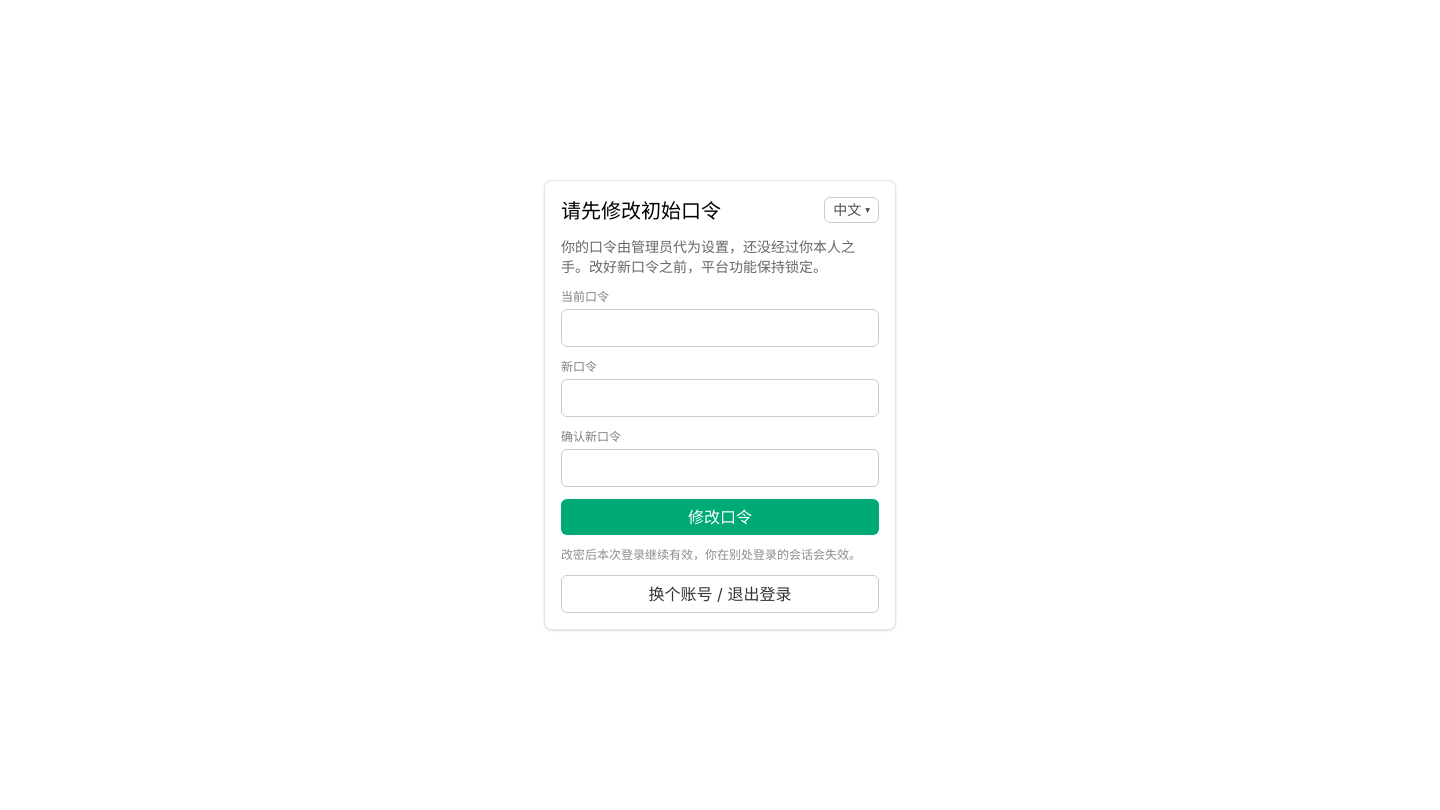
Test: #255 改密表单与成功链路 › 两次新口令不一致 ⇒ 本地拦住不发请求（服务端没有 confirm 字段，一致性只能前端判）
In the password field with id "currentPassword": (720, 328) [561, 309, 879, 347], type "admin-set"
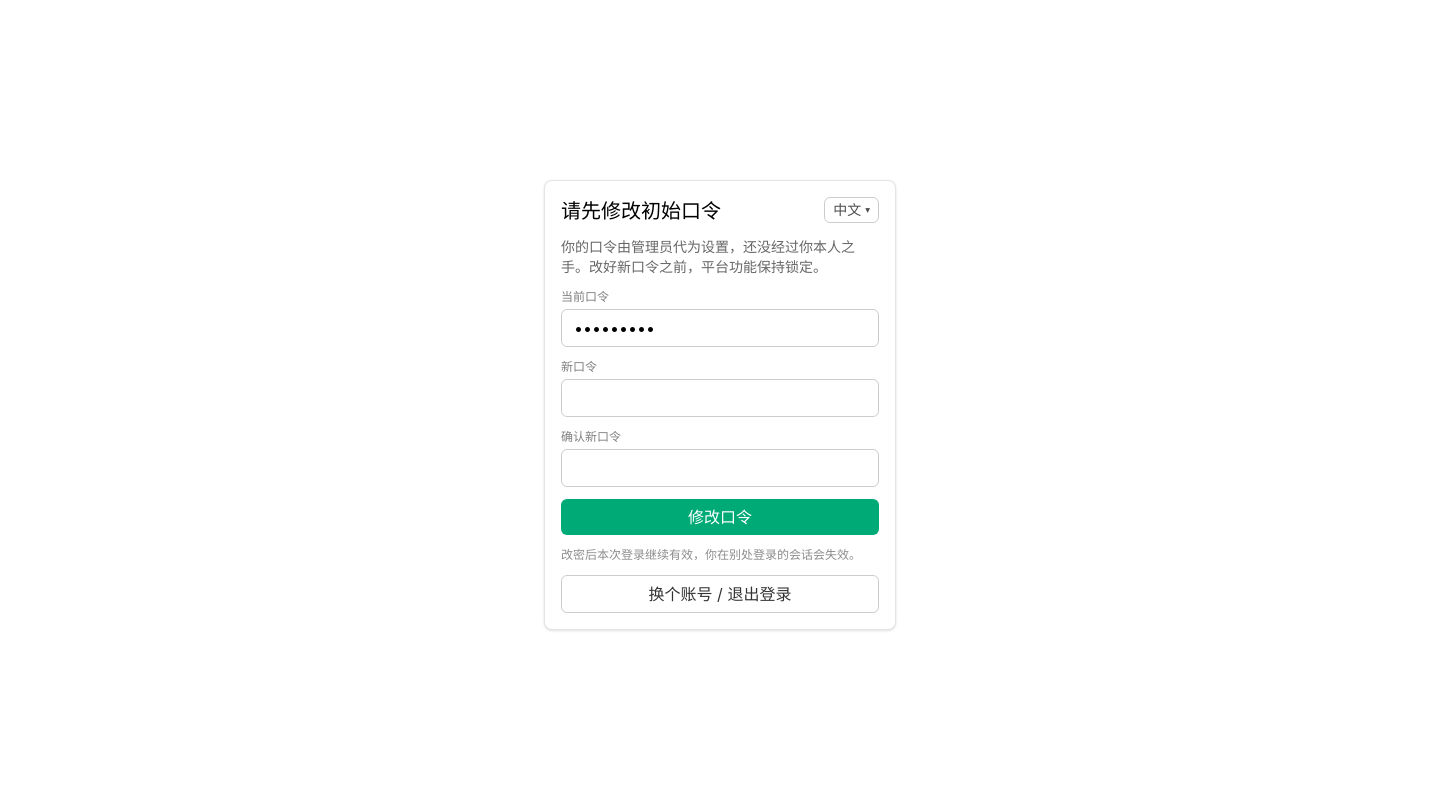
In the password field with id "newPassword": (720, 398) [561, 379, 879, 417], type "one"
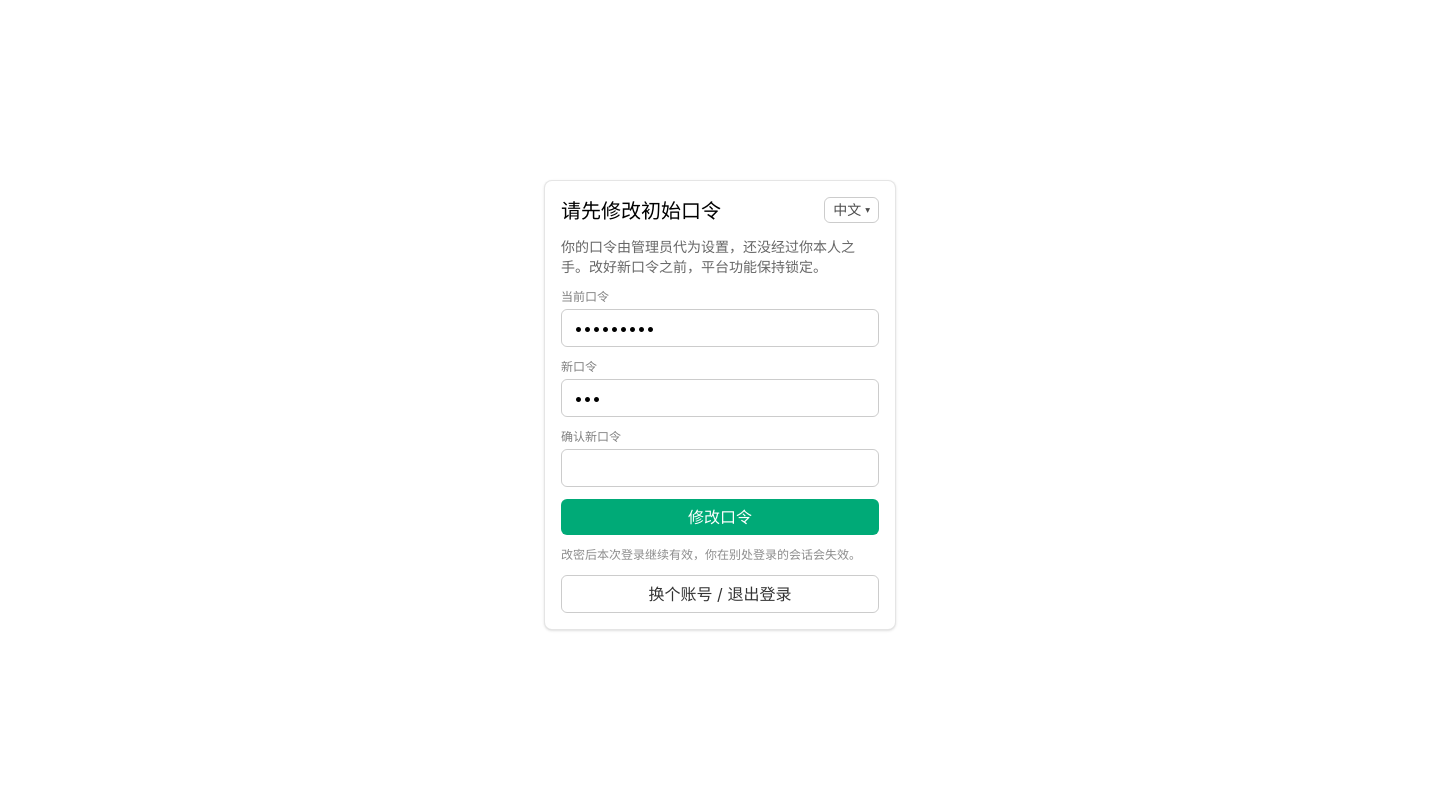
In the password field with id "confirmPassword": (720, 468) [561, 449, 879, 487], type "two"
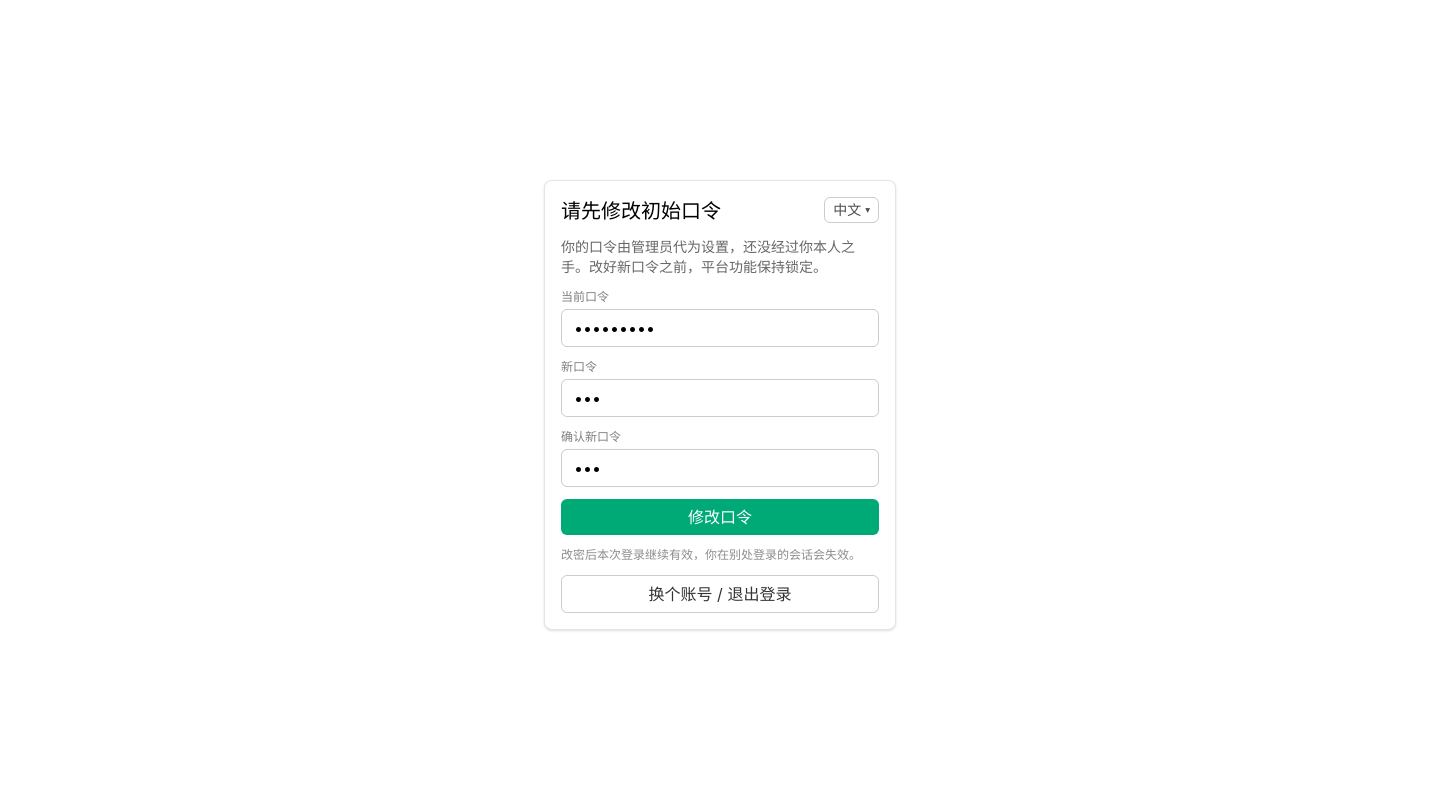
Submit the form, box [561, 289, 879, 535]
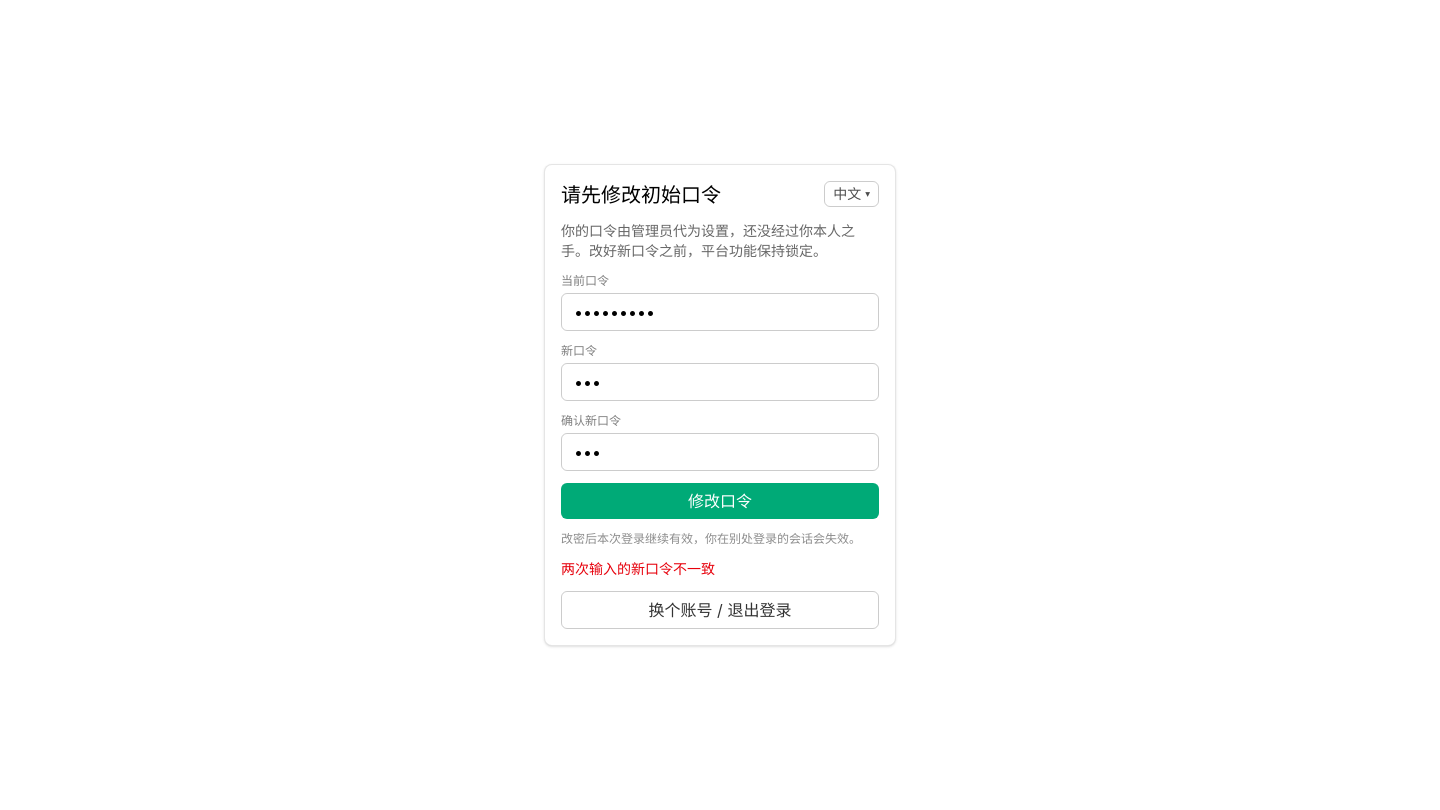
Now the message "两次输入的新口令不一致" is shown, box [561, 560, 715, 577]
